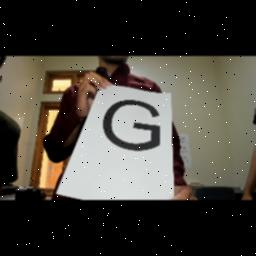g: (100, 97, 168, 157)
